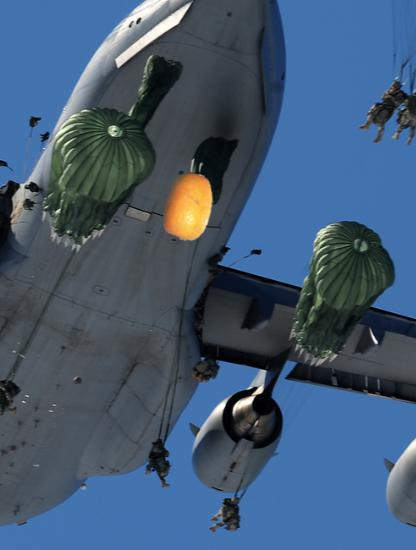Kumquats: (155, 173, 223, 241)
